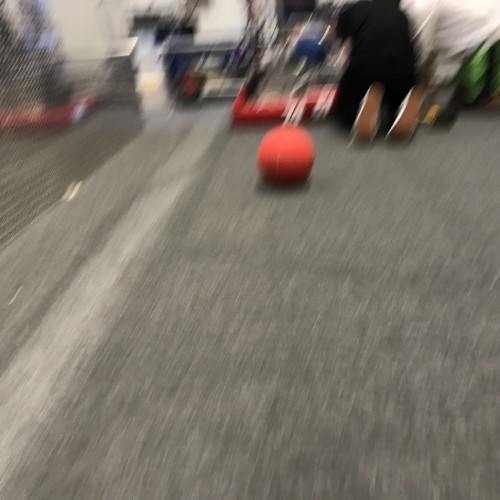red: (253, 122, 320, 188)
